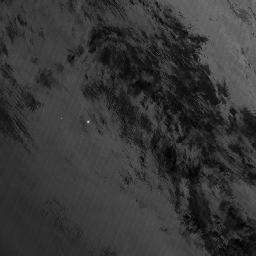Target: (85, 118, 91, 124)
